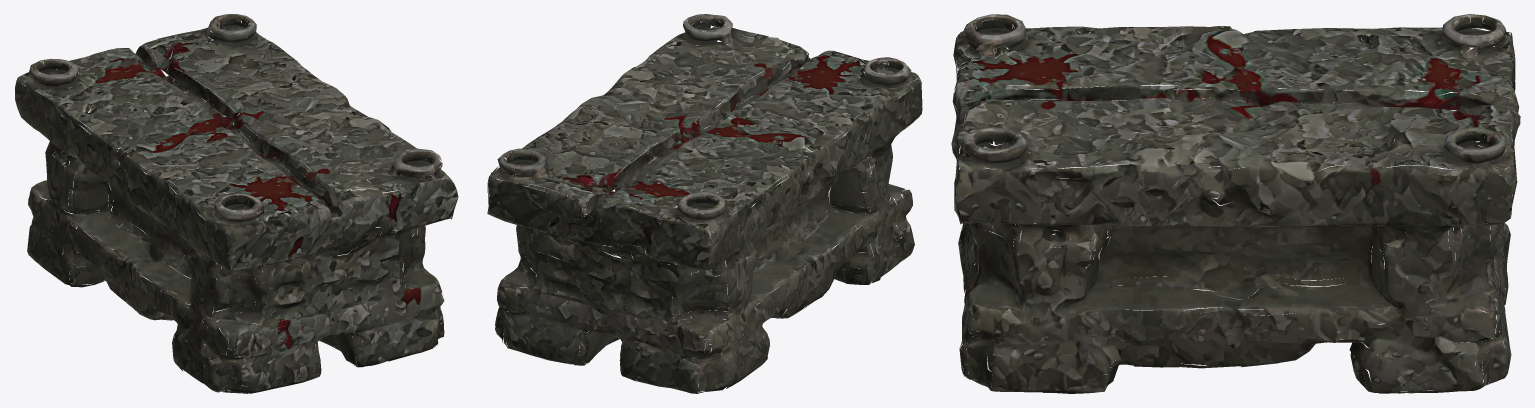
File: altar.glb
3 views of the same model, side by side, from view 1: azimuth 30°, elevation 25°; view 2: azimuth 150°, elevation 25°; view 3: azimuth 270°, elevation 25° (orthographic). The views are drawn at different scales.
Parts seen in each view (by area): view 1: altar; view 2: altar; view 3: altar.
Boxes of the visible parts, x1,y1,x2,y2 form: altar: [15, 14, 458, 393]; altar: [487, 14, 922, 393]; altar: [951, 14, 1520, 393].
Bounding box in the file's own units: 1.34 × 1 × 2.14.
Materials: 1 (1 with a texture image).
